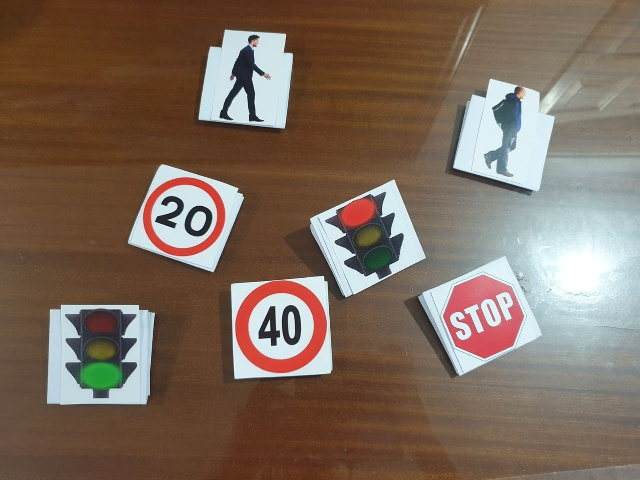Green: (61, 304, 140, 401)
Limit 20: (146, 177, 224, 258)
Limit 40: (236, 281, 326, 371)
Person: (484, 81, 530, 184), (224, 27, 273, 123)
Red: (330, 194, 408, 282)
Stop: (443, 273, 523, 357)
